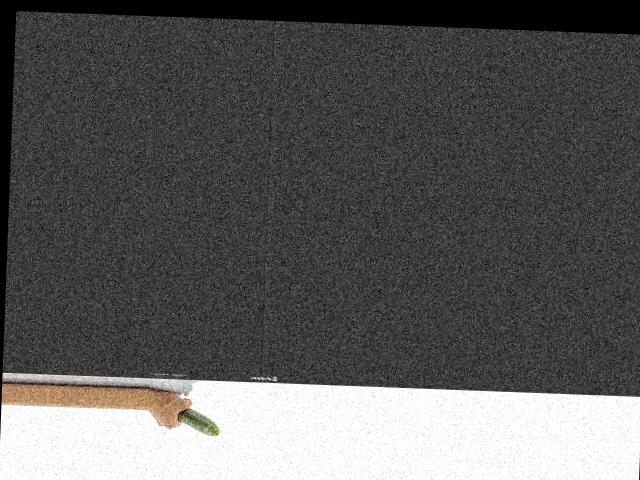cucumber: (176, 407, 219, 436)
